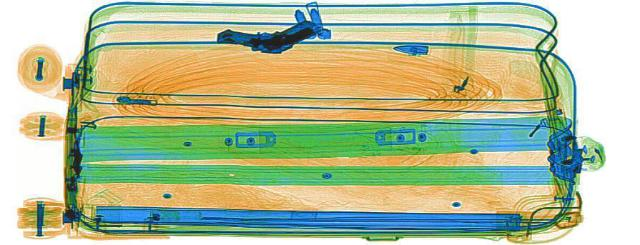Gun: (206, 9, 332, 54)
